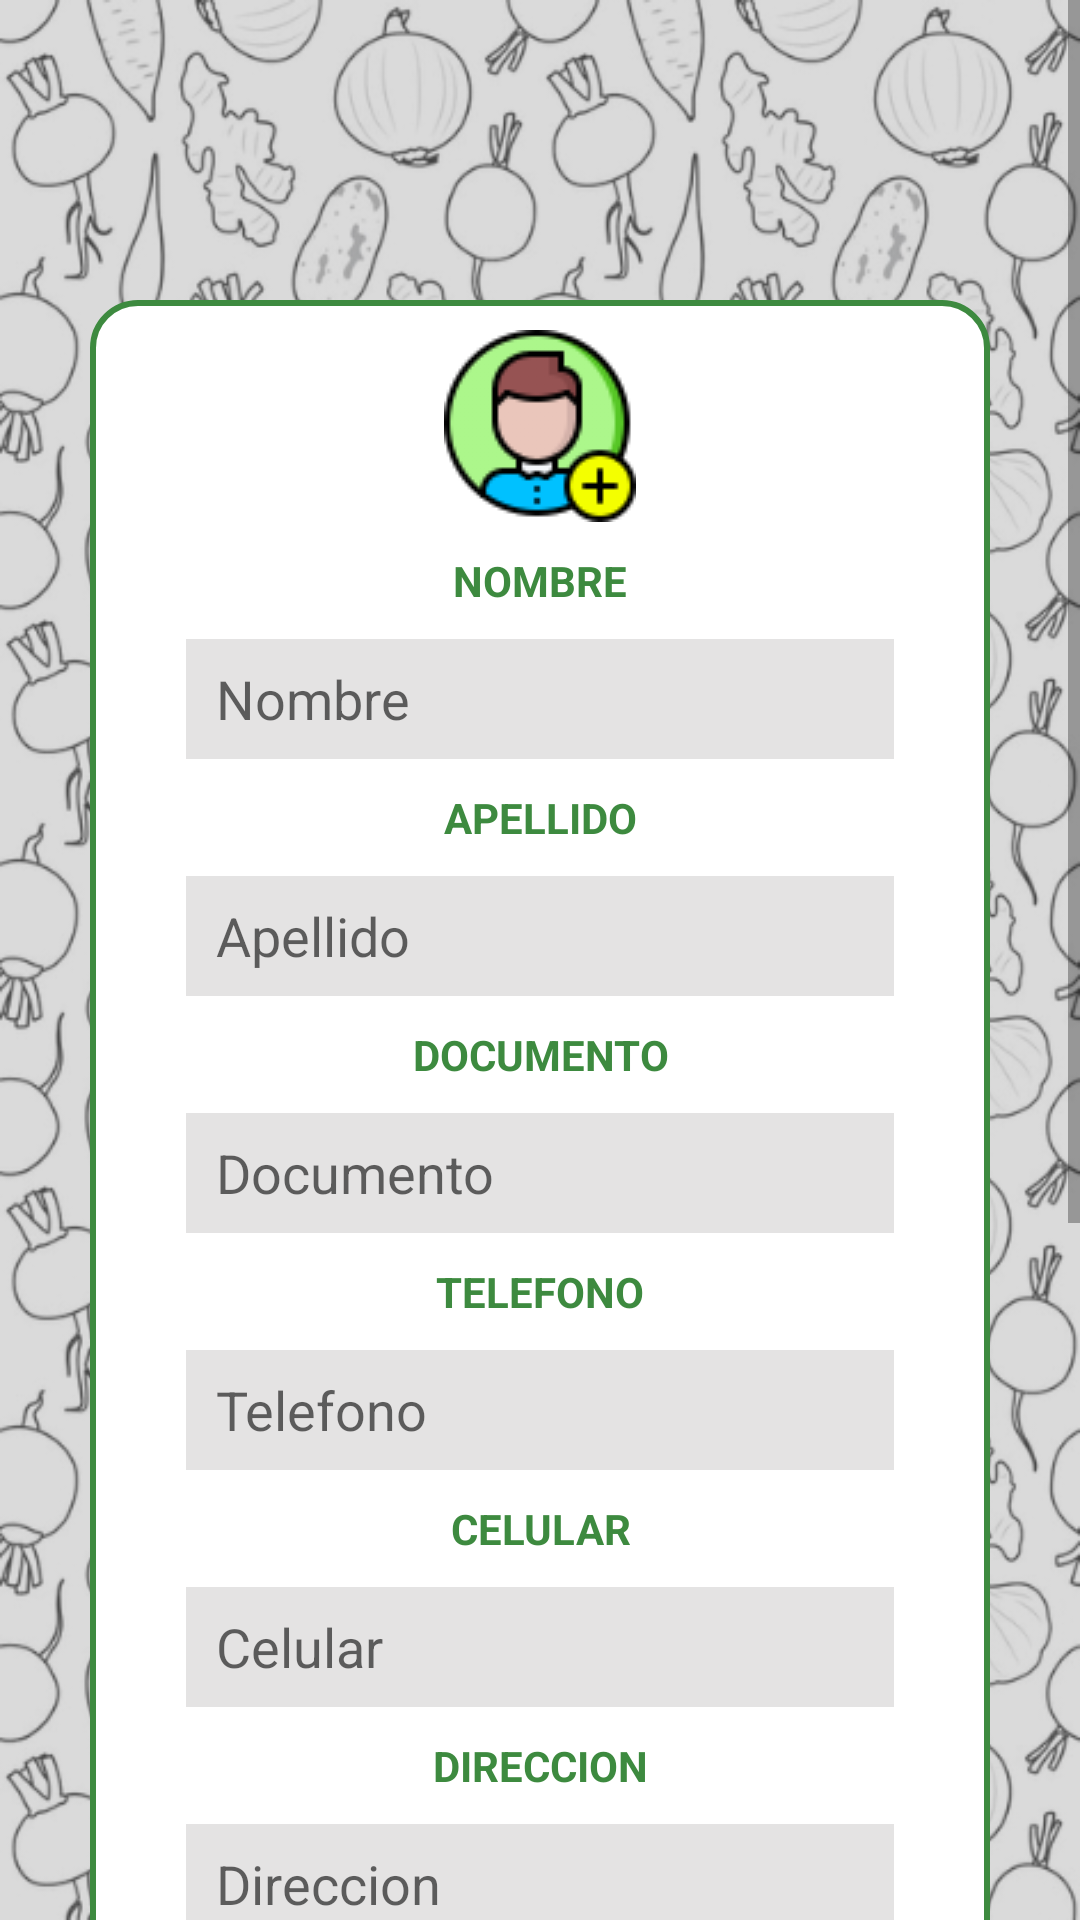

Screen size 1080px×1920px. Icon name, then its box in pixels as (x1, y1, x2, y2):
registrar: (444, 330, 636, 522)
